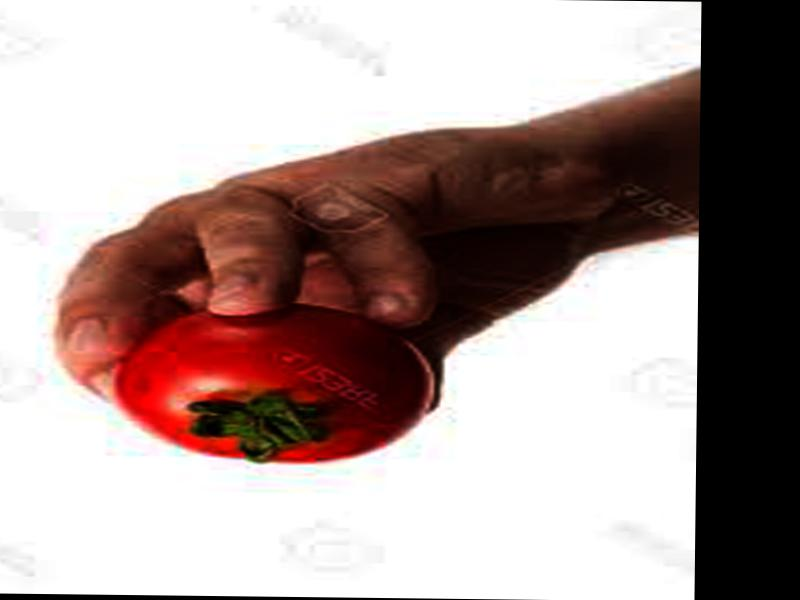Tomato: (115, 305, 431, 465)
